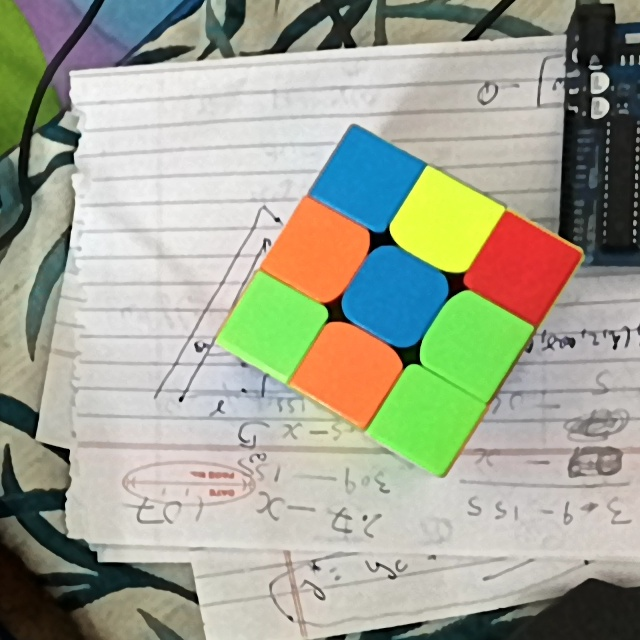tile: (396, 388, 461, 451), (363, 263, 427, 323), (444, 310, 503, 374), (489, 242, 550, 303), (317, 341, 380, 399), (291, 222, 348, 286), (410, 198, 475, 254), (243, 296, 305, 354), (335, 156, 395, 209)
